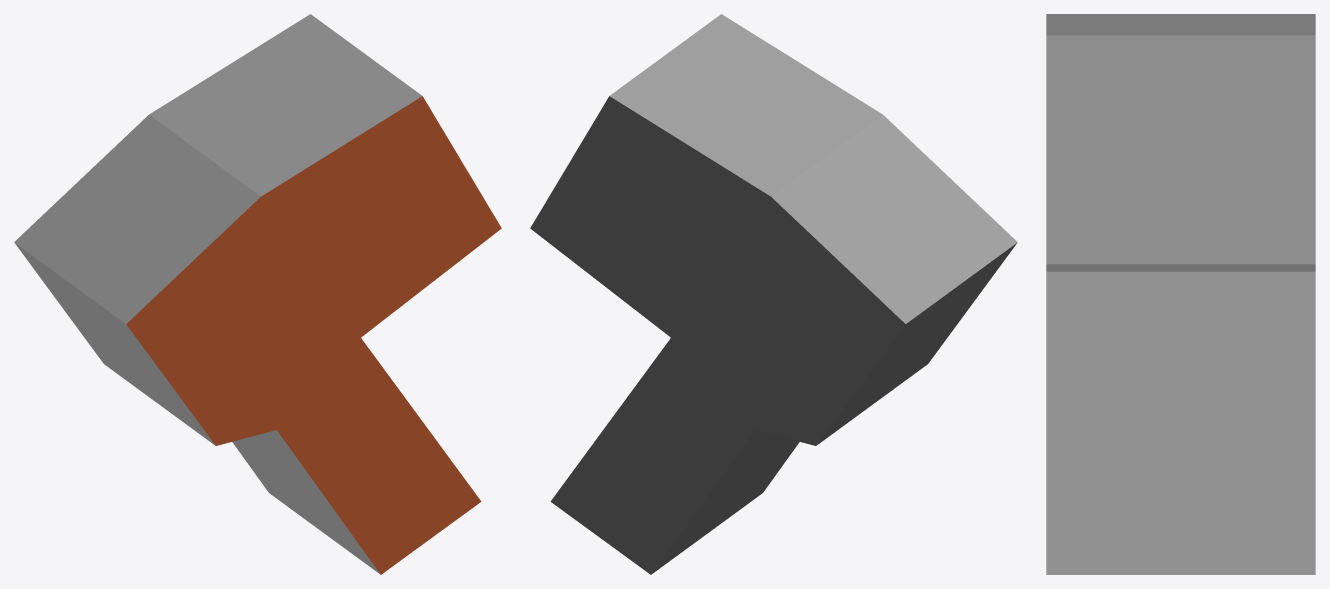
The model's file is construction_4661_assumed_A_Casa_h6m.obj.
3 views of the same model, side by side, from view 1: azimuth 30°, elevation 25°; view 2: azimuth 150°, elevation 25°; view 3: azimuth 270°, elevation 25° (orthographic). The views are drawn at different scales.
Visible parts, largest first — view 1: construction_4661_assumed_A_Casa; view 2: construction_4661_assumed_A_Casa; view 3: construction_4661_assumed_A_Casa.
Part boxes in pixels (x1=…): construction_4661_assumed_A_Casa: x1=14, y1=14, x2=501, y2=574; construction_4661_assumed_A_Casa: x1=530, y1=14, x2=1017, y2=574; construction_4661_assumed_A_Casa: x1=1046, y1=14, x2=1315, y2=574.
Bounding box in the file's own units: 11.61 × 13.85 × 6.
